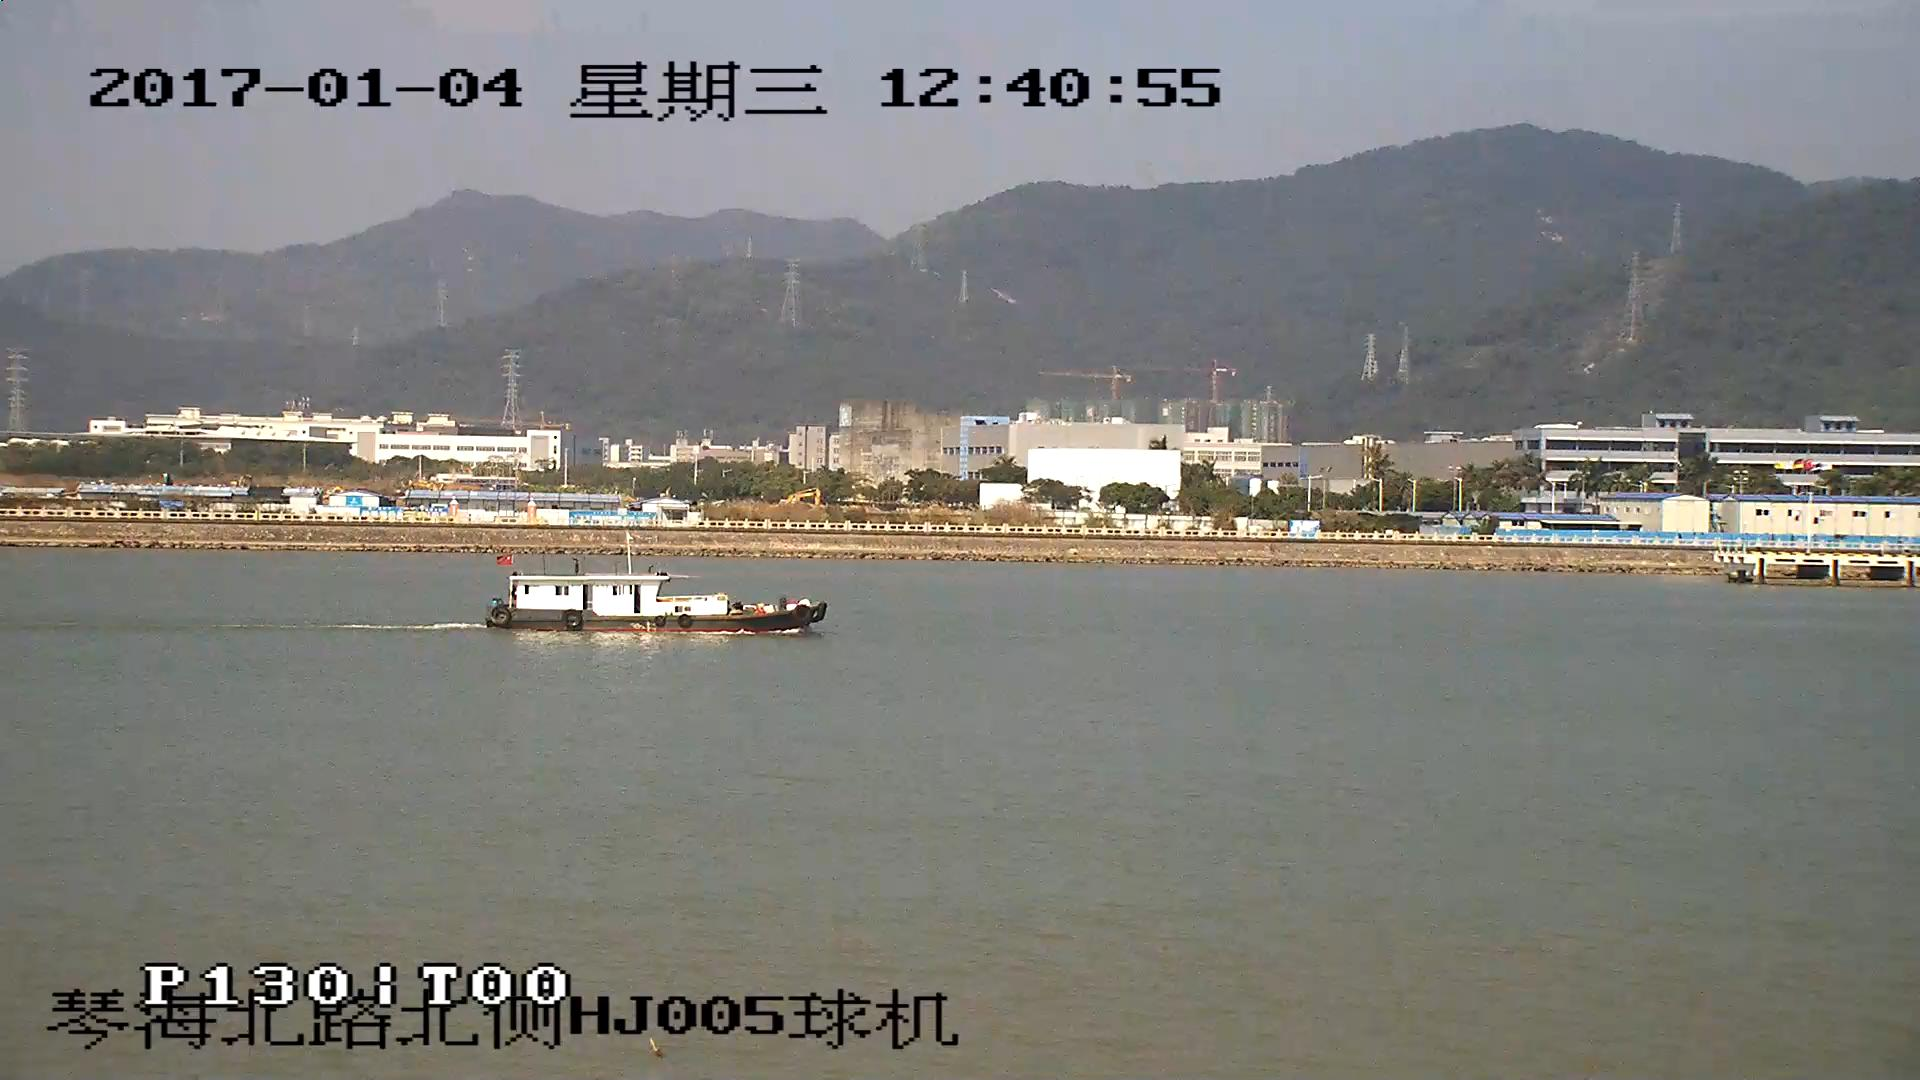fishing boat: (486, 540, 829, 632)
